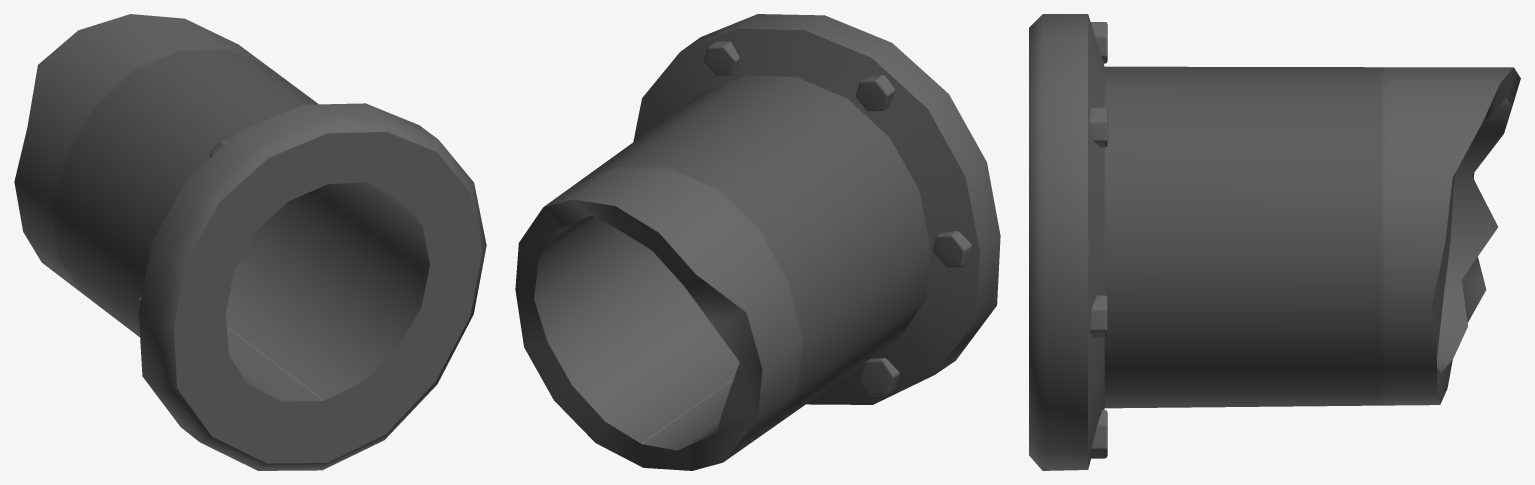
File: SM_tuyaux_casser_01_low (1).fbx
3 renders of one model, left to right at view 1: azimuth 30°, elevation 25°; view 2: azimuth 150°, elevation 25°; view 3: azimuth 270°, elevation 25°, orthographic. The views are drawn at different scales.
Parts seen in each view (by area): view 1: SM_tuyaux_casser_01_low; view 2: SM_tuyaux_casser_01_low; view 3: SM_tuyaux_casser_01_low.
Boxes of the visible parts, left/top/right/bottom form: SM_tuyaux_casser_01_low: left=14, top=14, right=486, bottom=470; SM_tuyaux_casser_01_low: left=515, top=14, right=1000, bottom=470; SM_tuyaux_casser_01_low: left=1029, top=14, right=1520, bottom=470.
Bounding box in the file's own units: 0.2644 × 0.2703 × 0.2903.
Materials: 1 (1 with a texture image).
